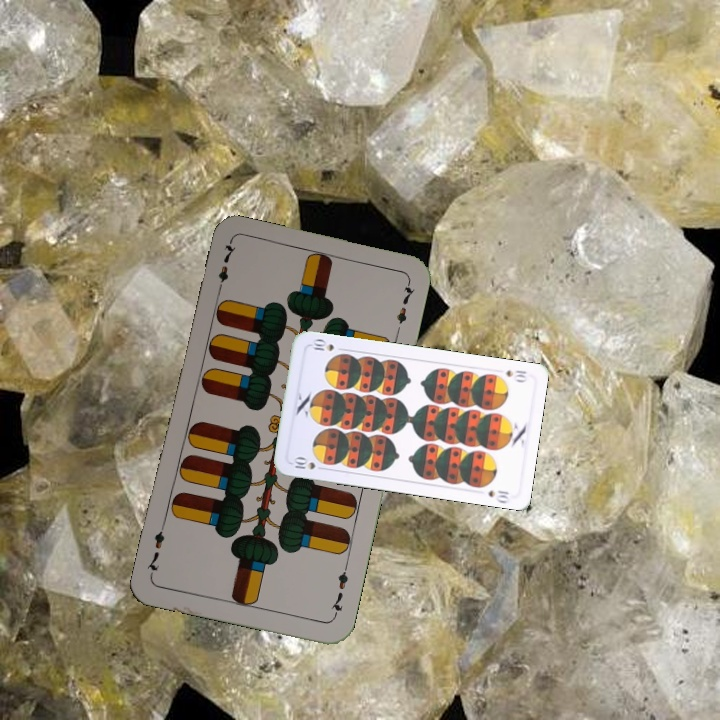E7: (213, 239, 239, 297), (326, 561, 351, 620)
S10: (288, 453, 328, 472), (502, 366, 529, 384)
